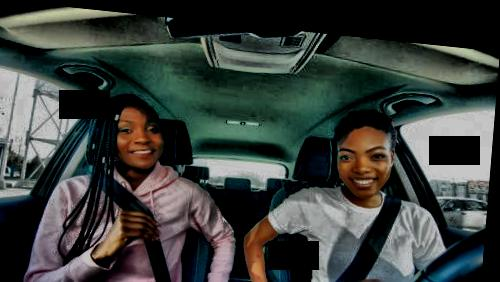seatbelt: (71, 158, 195, 282), (305, 169, 414, 282)
